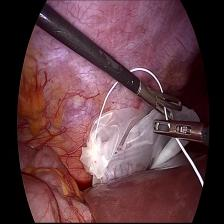Grasper: (140, 82, 182, 122), (153, 116, 208, 143)
Specimen Bag: (76, 105, 154, 195)
